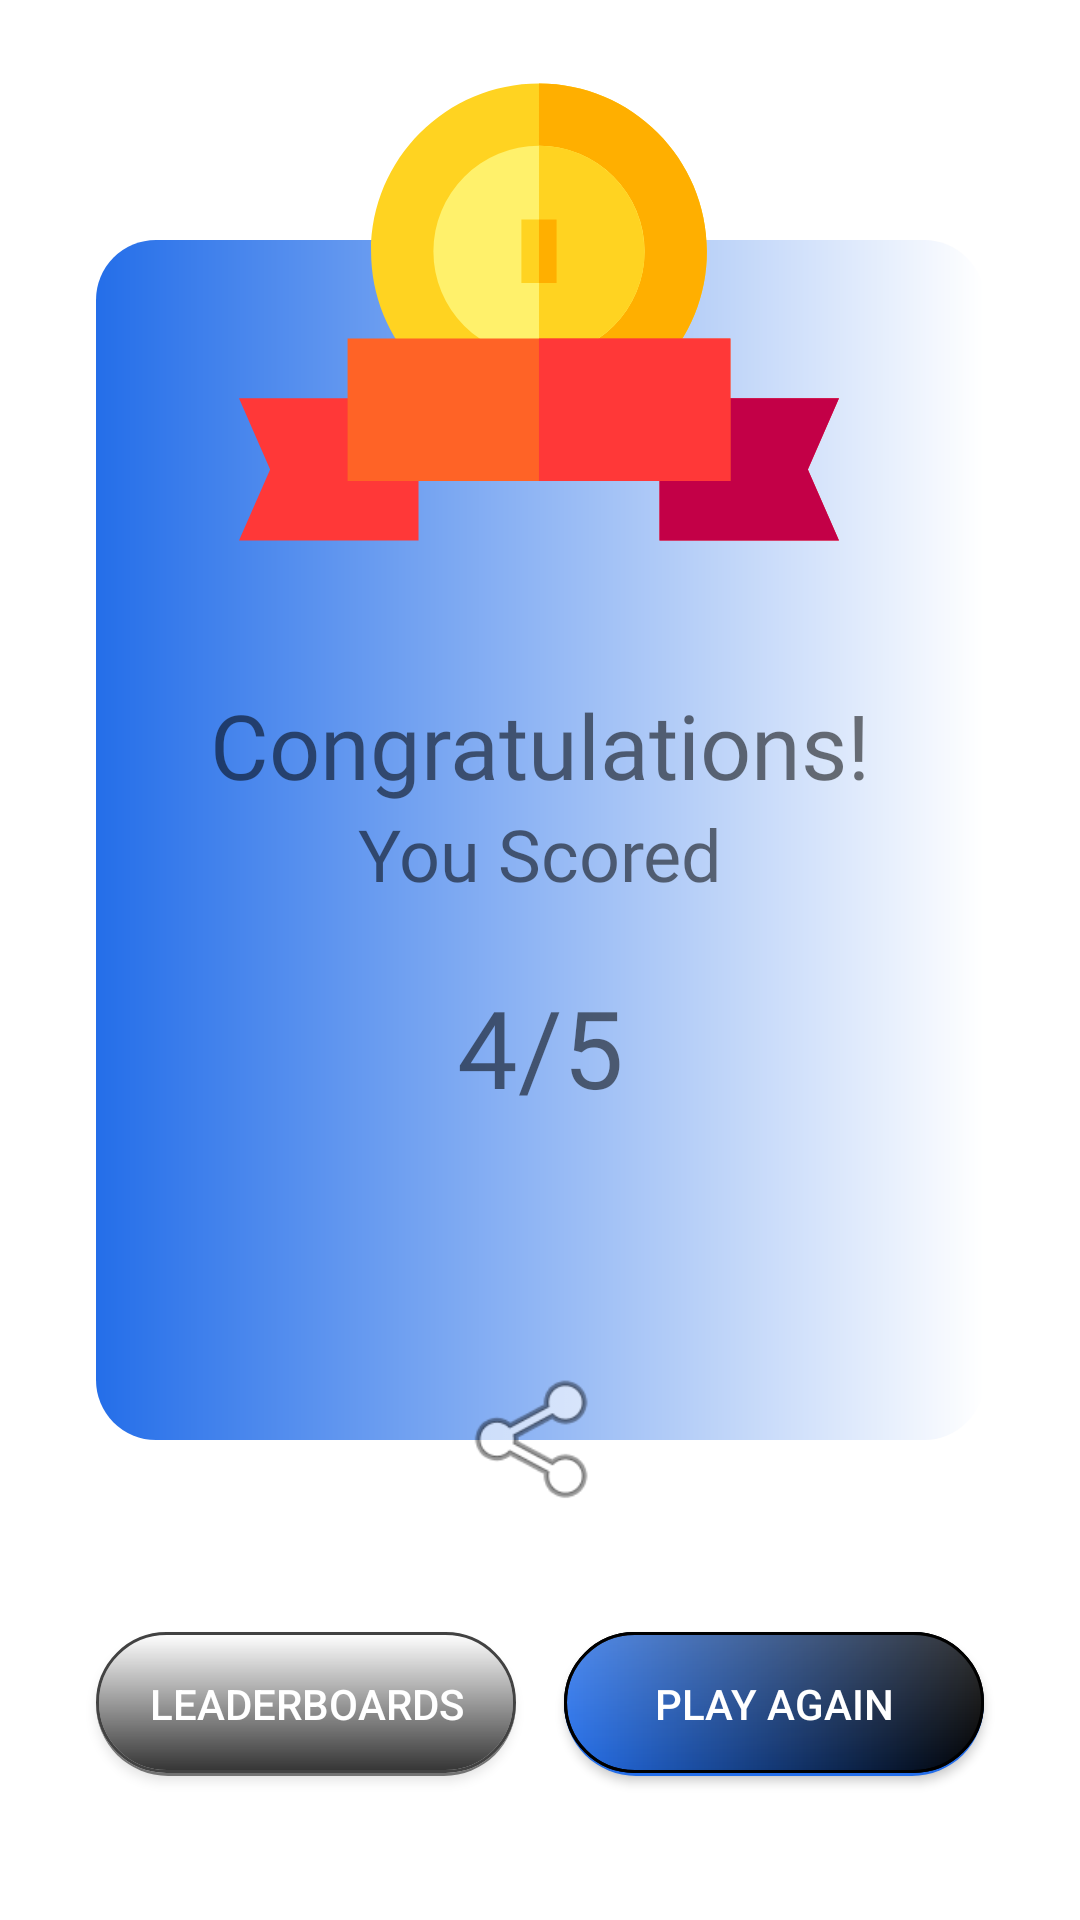

Icon click points for this 1080w x 1920h phone screenshot, format [x,y]:
share: [539,1440]
